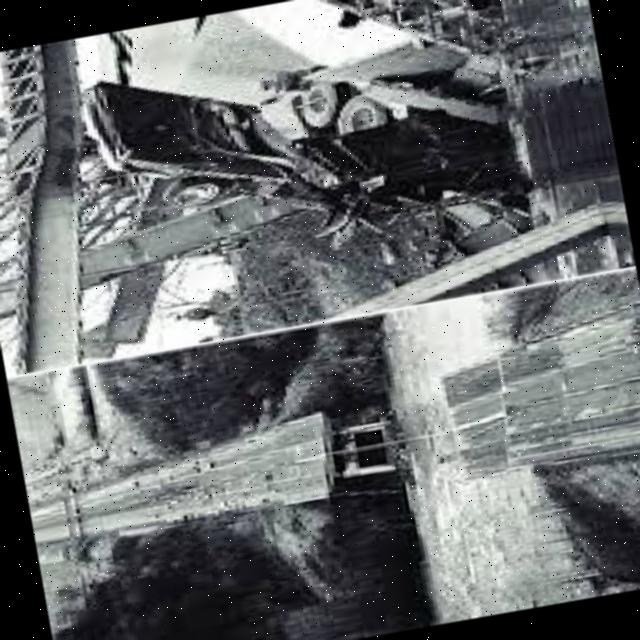bridge collapse: (15, 312, 606, 640)
